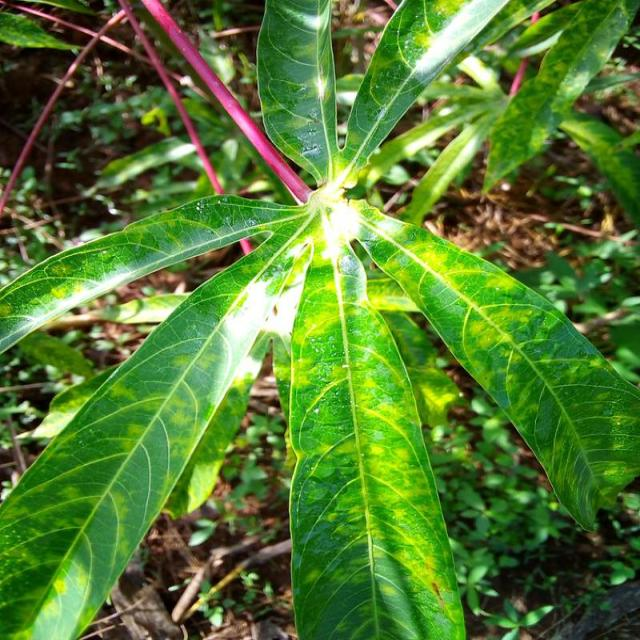cassava leaf: (0, 0, 638, 638), (286, 240, 466, 638)
